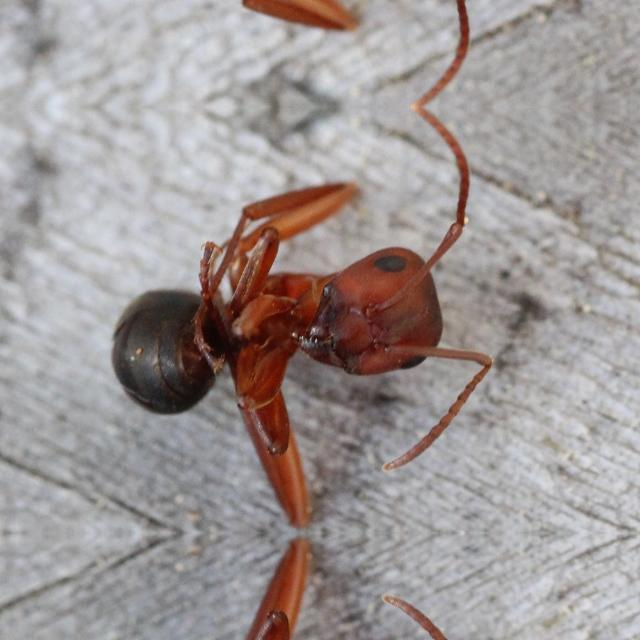Formica: (90, 182, 526, 456)
